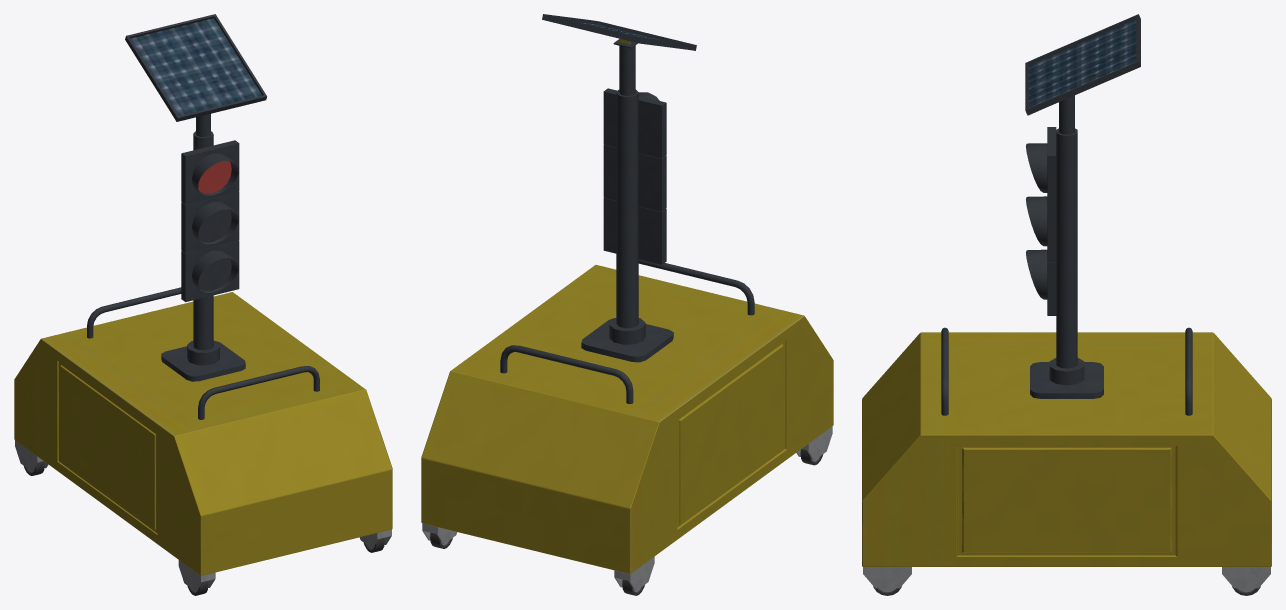
The model's file is feu_chantier.glb.
The picture shows the model from 3 angles, left to right: view 1: azimuth 30°, elevation 25°; view 2: azimuth 150°, elevation 25°; view 3: azimuth 270°, elevation 25°; orthographic projection. The views are drawn at different scales.
Visible parts, largest first — view 1: Portable_Traffic_Light; view 2: Portable_Traffic_Light; view 3: Portable_Traffic_Light.
Boxes of the visible parts, x1,y1,x2,y2 form: Portable_Traffic_Light: (14,14,392,595); Portable_Traffic_Light: (421,14,833,595); Portable_Traffic_Light: (862,14,1271,595).
Size of the model in its own units: 0.6 by 1.38 by 1.01.
Materials: 2 (2 with a texture image).
